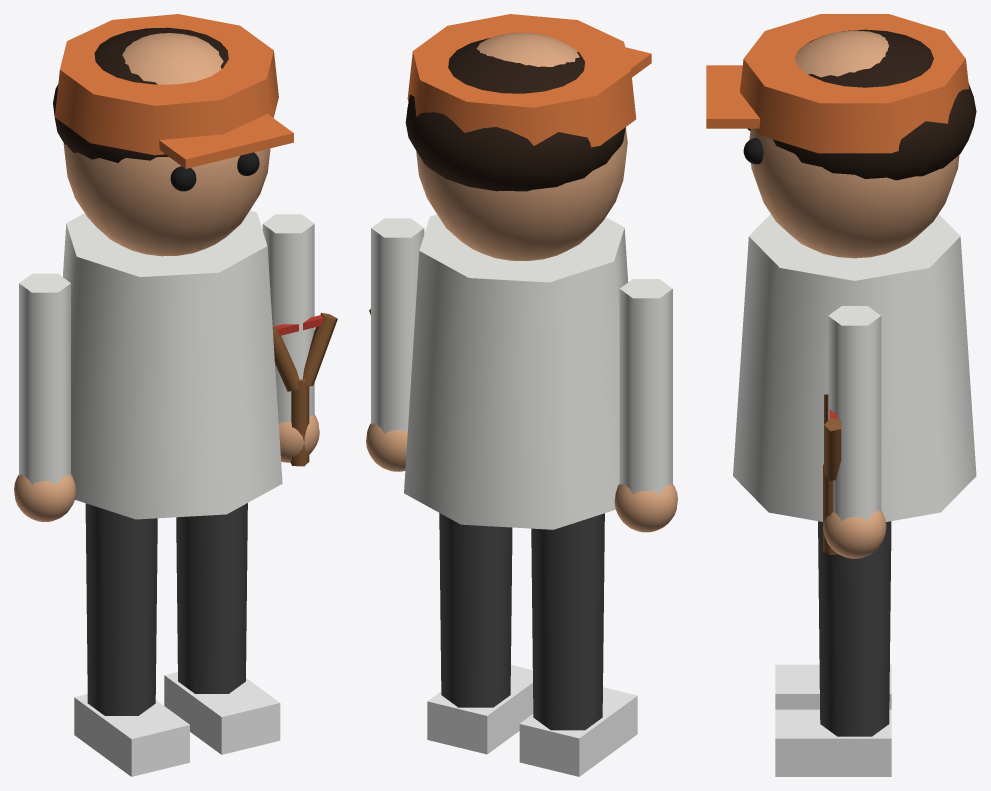
The model's file is kid_sling_1.glb.
The picture shows the model from 3 angles, left to right: view 1: azimuth 30°, elevation 25°; view 2: azimuth 150°, elevation 25°; view 3: azimuth 270°, elevation 25°; orthographic projection. The views are drawn at different scales.
Parts seen in each view (by area): view 1: object 1, head, legL, legR, armL, armR; view 2: object 1, head, legL, legR, armL, armR; view 3: object 1, head, legR, armR, legL.
Boxes of the visible parts, x1,y1,x2,y2 form: object 1: (63, 210, 282, 519); head: (53, 14, 293, 256); legL: (74, 503, 189, 776); legR: (164, 503, 280, 754); armL: (14, 273, 75, 521); armR: (262, 214, 337, 466); object 1: (404, 214, 628, 529); head: (405, 14, 651, 260); legL: (519, 513, 637, 776); legR: (427, 513, 533, 754); armL: (614, 279, 677, 532); armR: (366, 218, 424, 471); object 1: (733, 214, 976, 521); head: (706, 14, 976, 258); legR: (775, 521, 891, 776); armR: (823, 306, 886, 558); legL: (775, 664, 891, 709).
Size of the model in its own units: 0.683 by 1.46 by 0.51.
